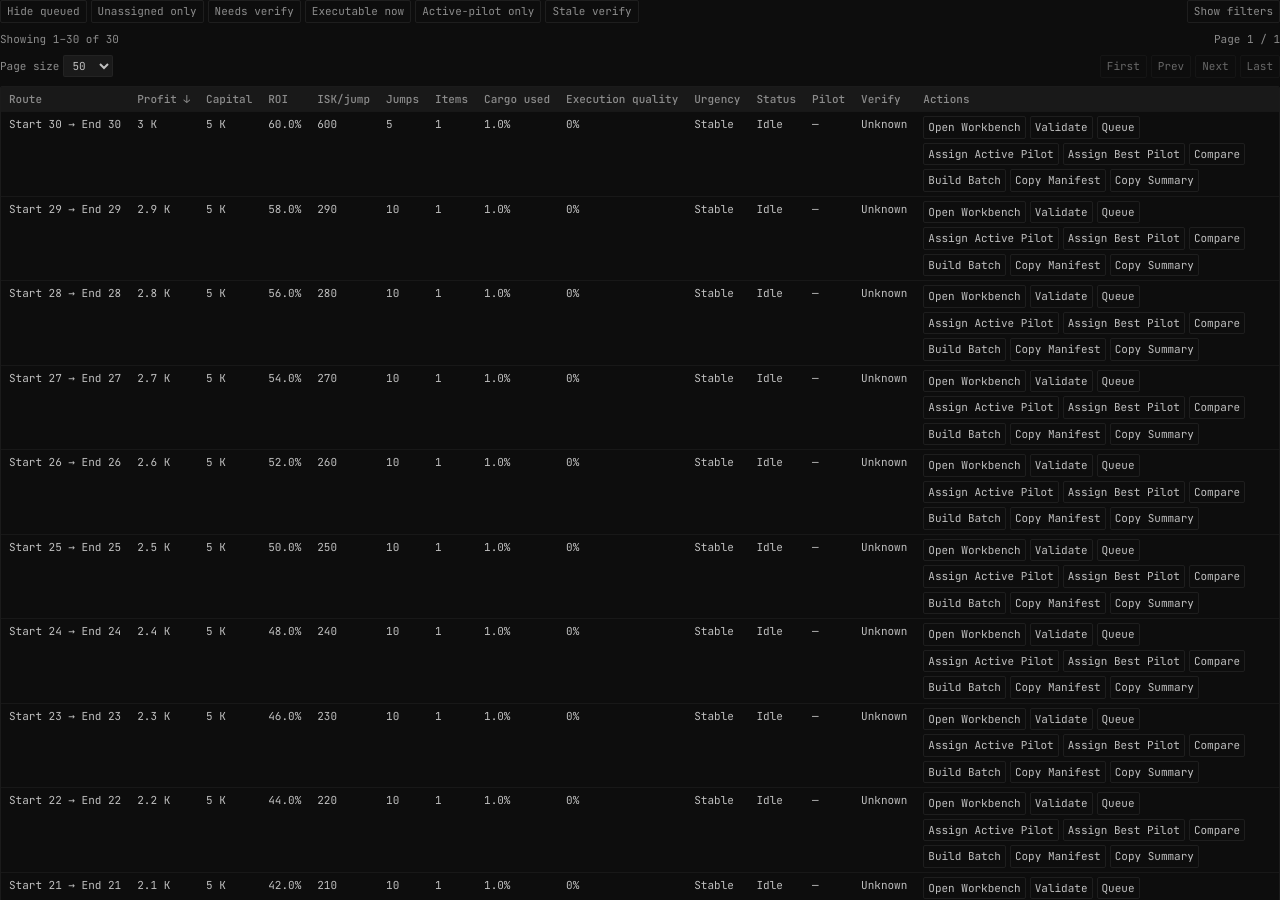
RadiusRouteGroupsPanel › renders only rows for current page
Select "25" in the dropdown labelled "Page size": (88, 66) [63,55,113,77]
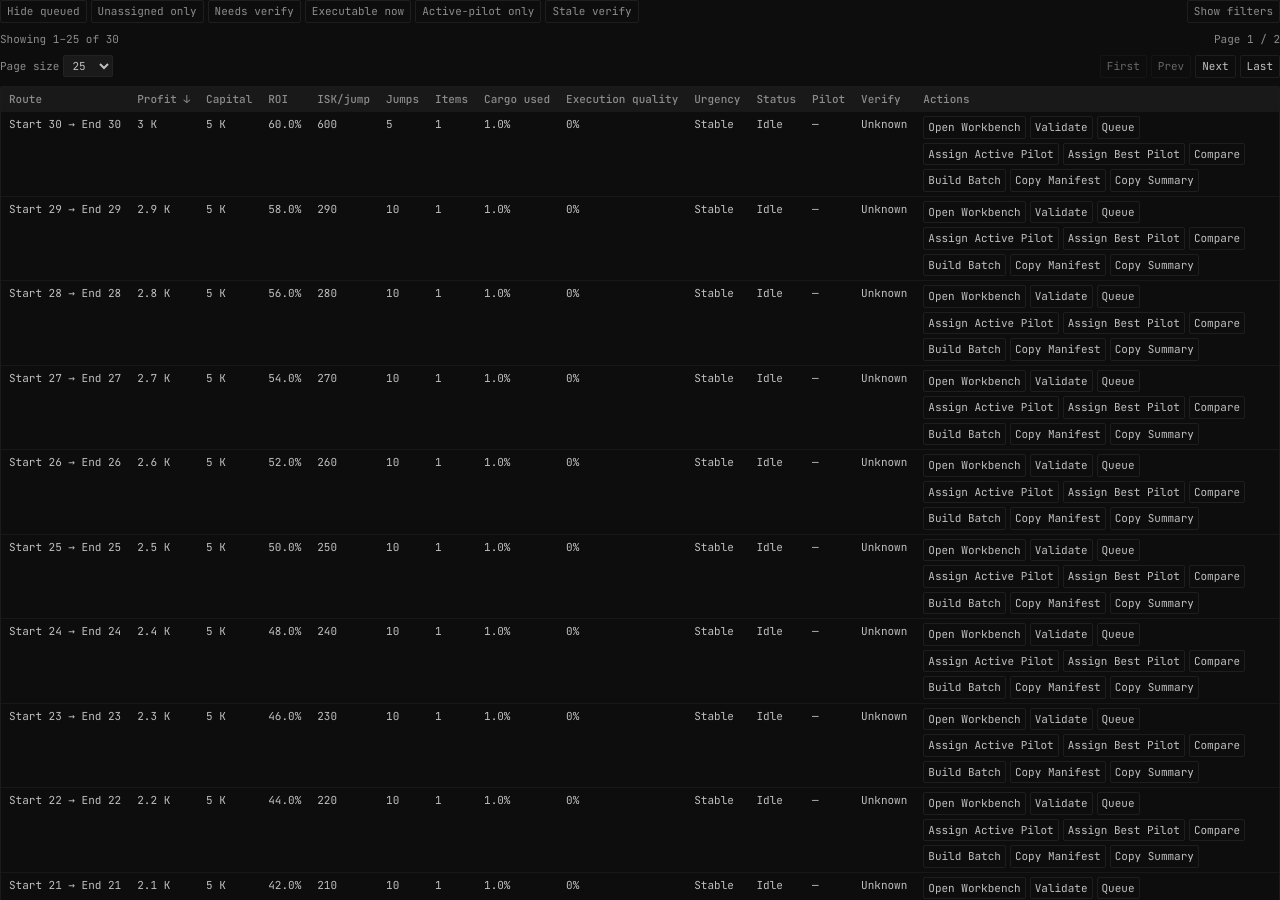
Check: the text "Start 30 → End 30" is shown, box [1,112,129,196]
Check: the text "Start 5 → End 5" is not shown
Click the button "Next": (1215, 66) [1195,55,1236,78]
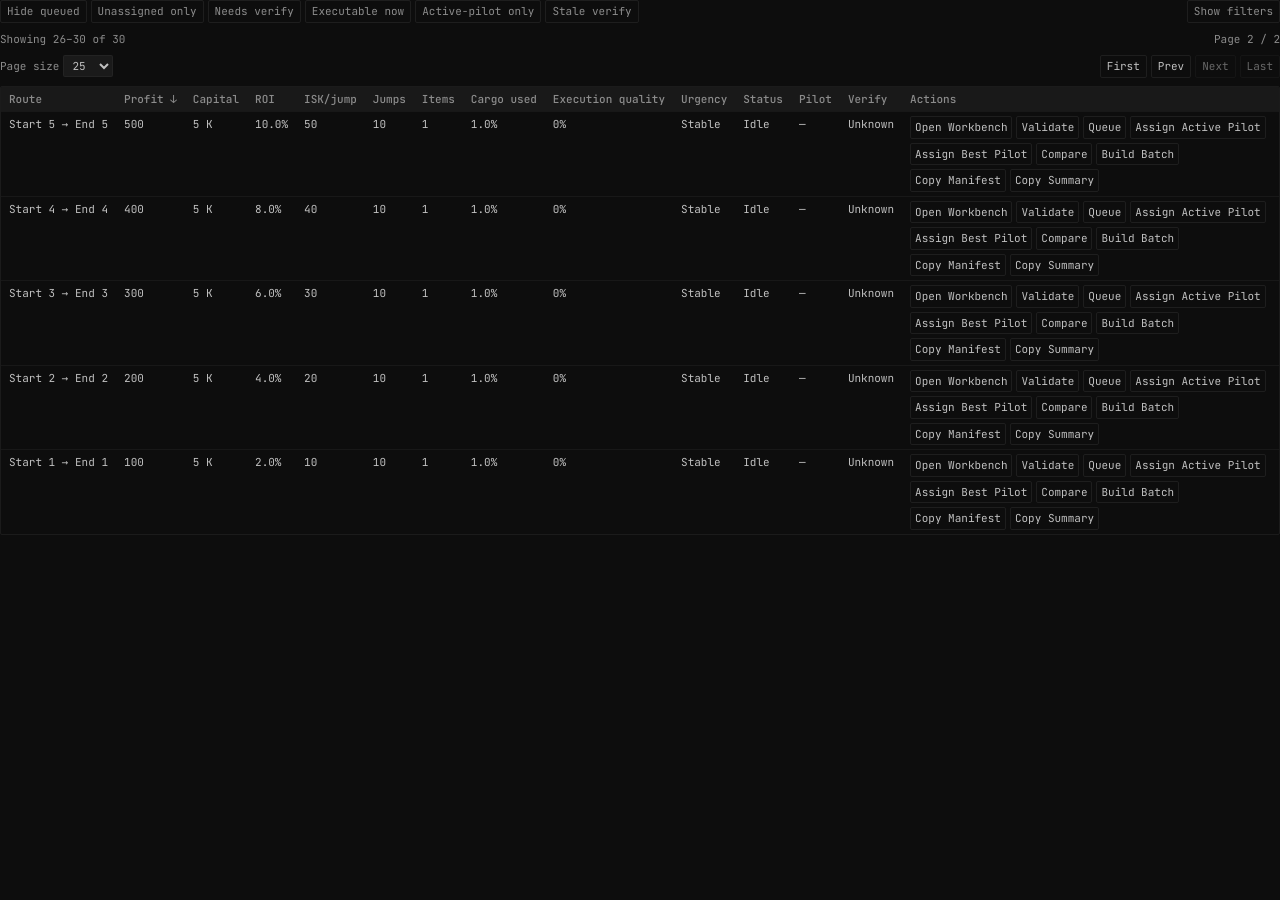
Check: the text "Start 5 → End 5" is shown, box [1,112,116,196]
Check: the text "Start 30 → End 30" is gone
